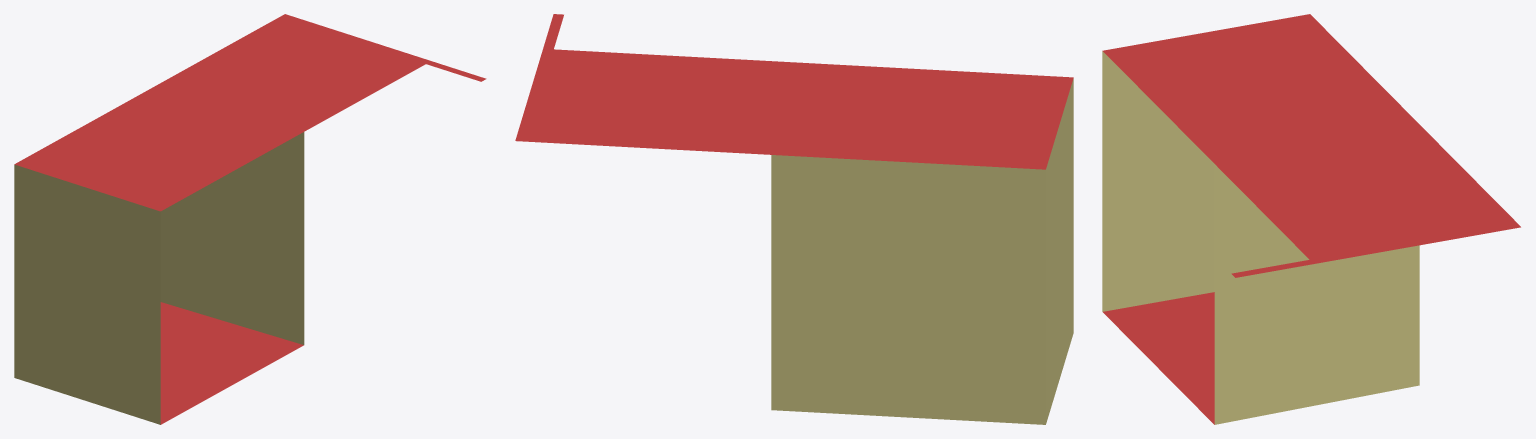
3 renders of one model, left to right at view 1: azimuth 30°, elevation 25°; view 2: azimuth 150°, elevation 25°; view 3: azimuth 270°, elevation 25°, orthographic. The views are drawn at different scales.
Size of the model in its own units: 13.06 by 8.77 by 6.03.
